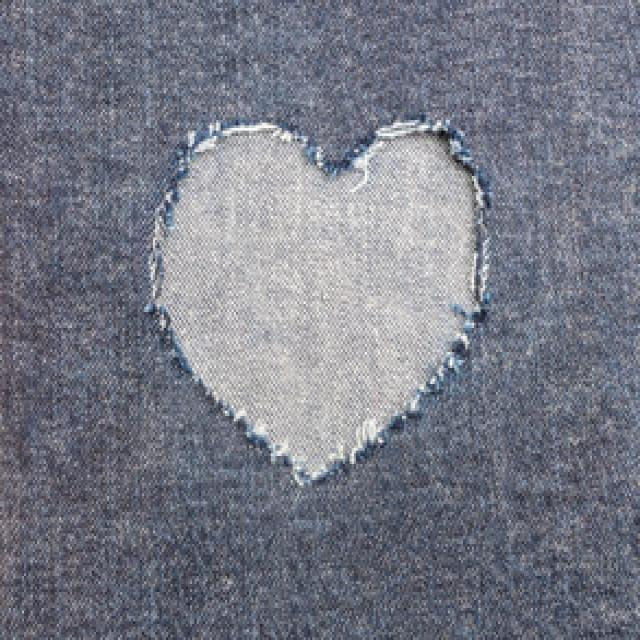Hole: (148, 119, 489, 485)
